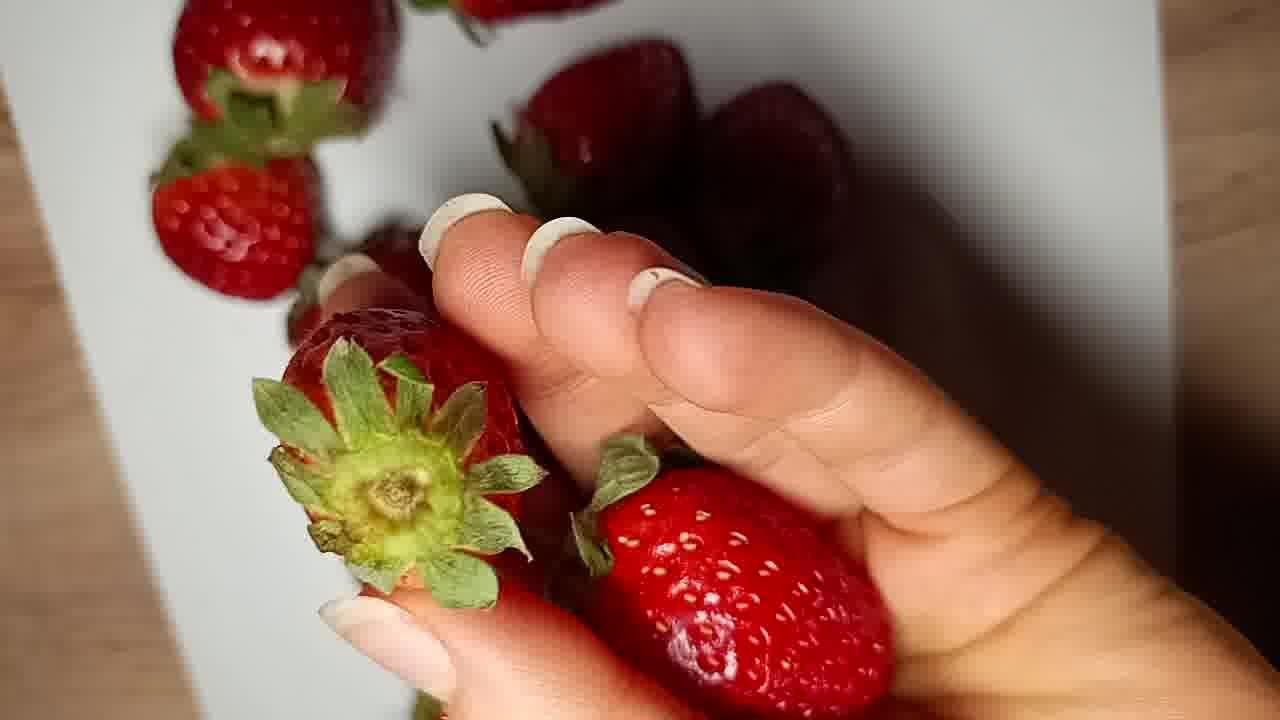strawberry: (562, 462, 897, 720), (508, 35, 700, 238), (699, 75, 860, 308), (174, 2, 401, 144), (150, 142, 330, 299), (439, 0, 617, 26)
